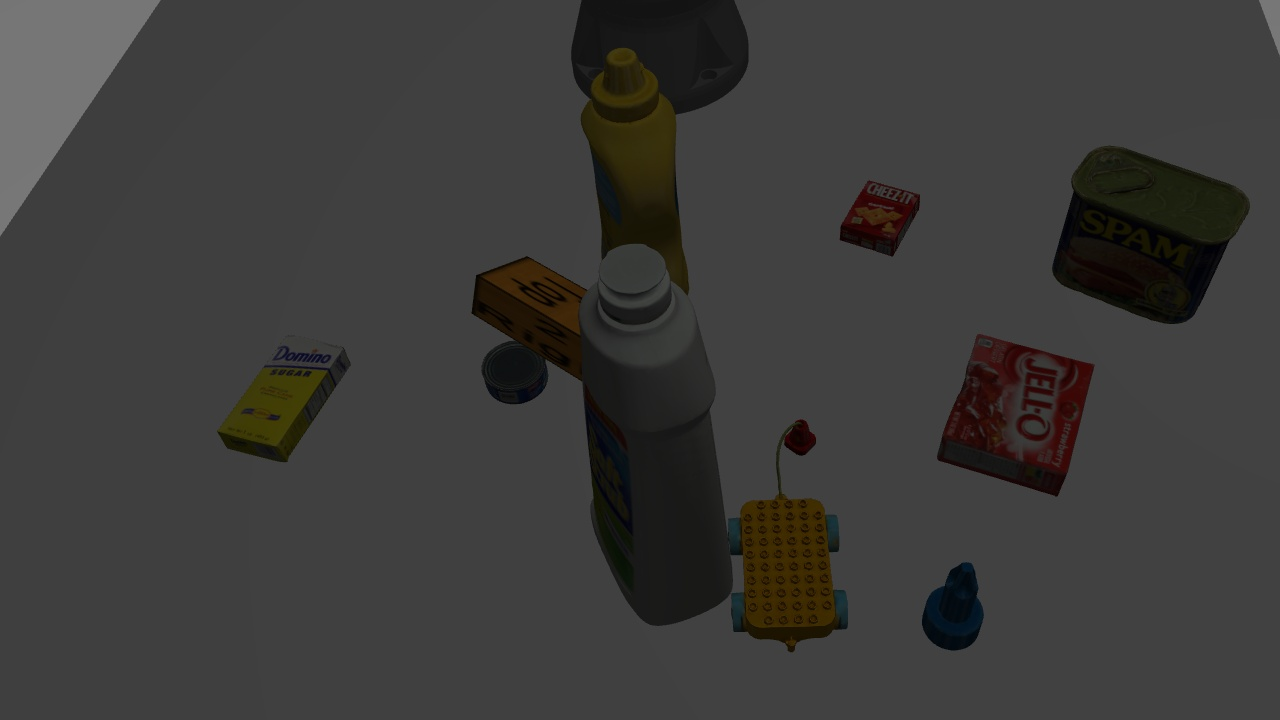gelatin_box: (938, 336, 1102, 493)
jenga: (465, 245, 615, 385)
mustard_bottle: (565, 47, 700, 301)
potted_meat_can: (1047, 137, 1241, 331)
